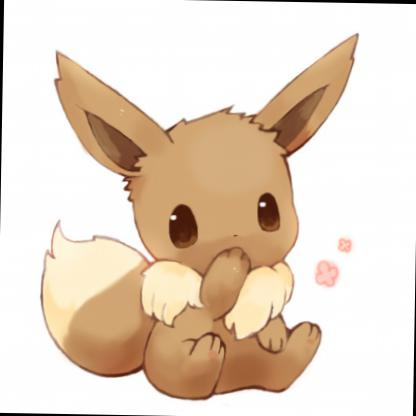Eevee: (39, 1, 404, 416)
